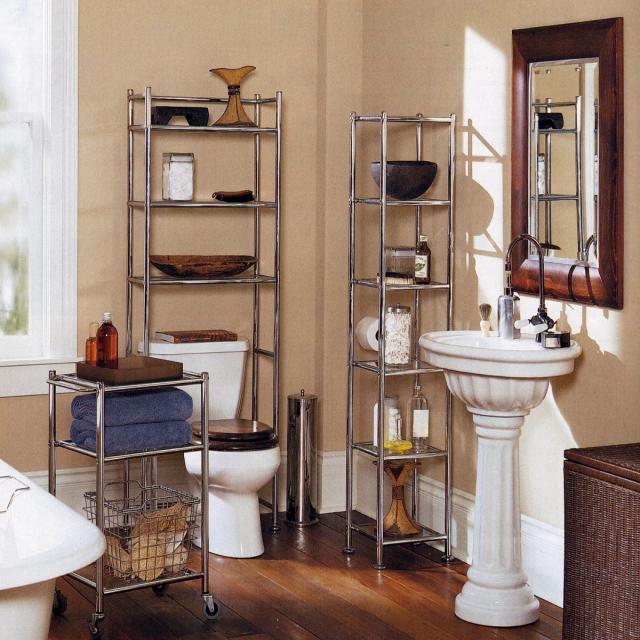bowl -X: (374, 162, 436, 199)
mirror crop: (510, 18, 618, 303)
sink basin: (420, 230, 580, 627)
table -X: (561, 442, 637, 636)
toilet bowl: (146, 338, 279, 556)
